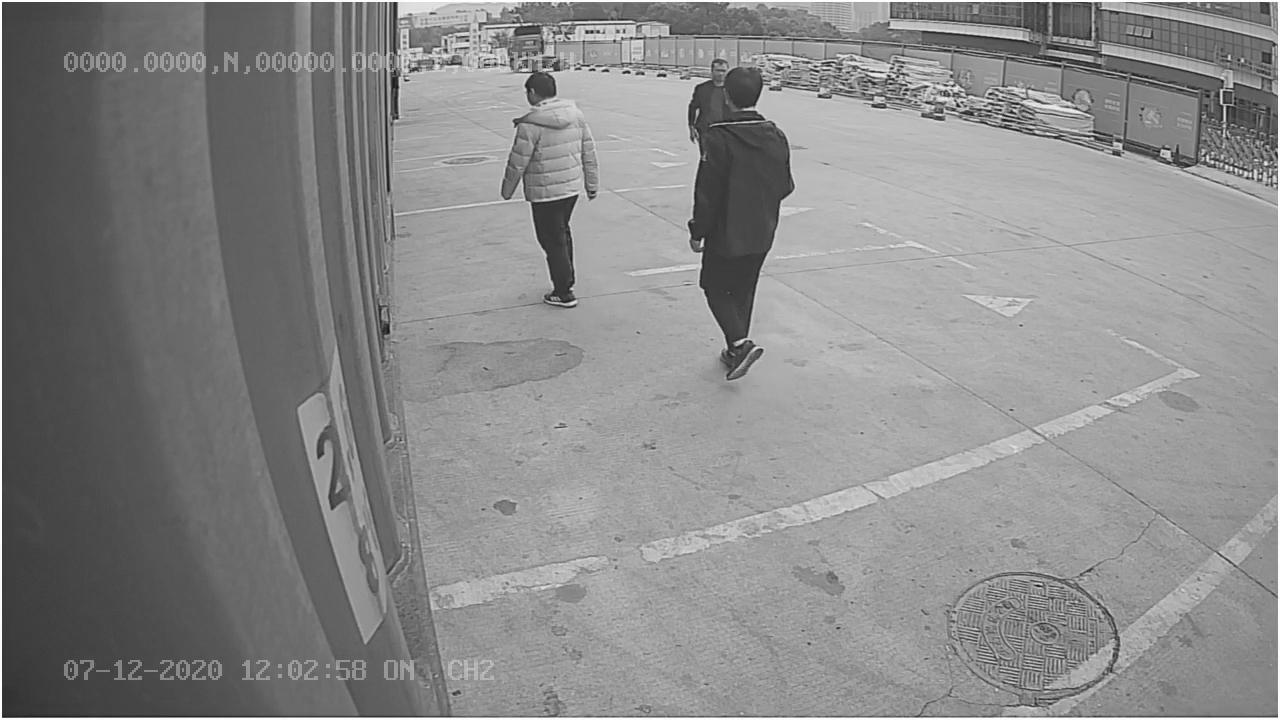person: (499, 72, 604, 310)
